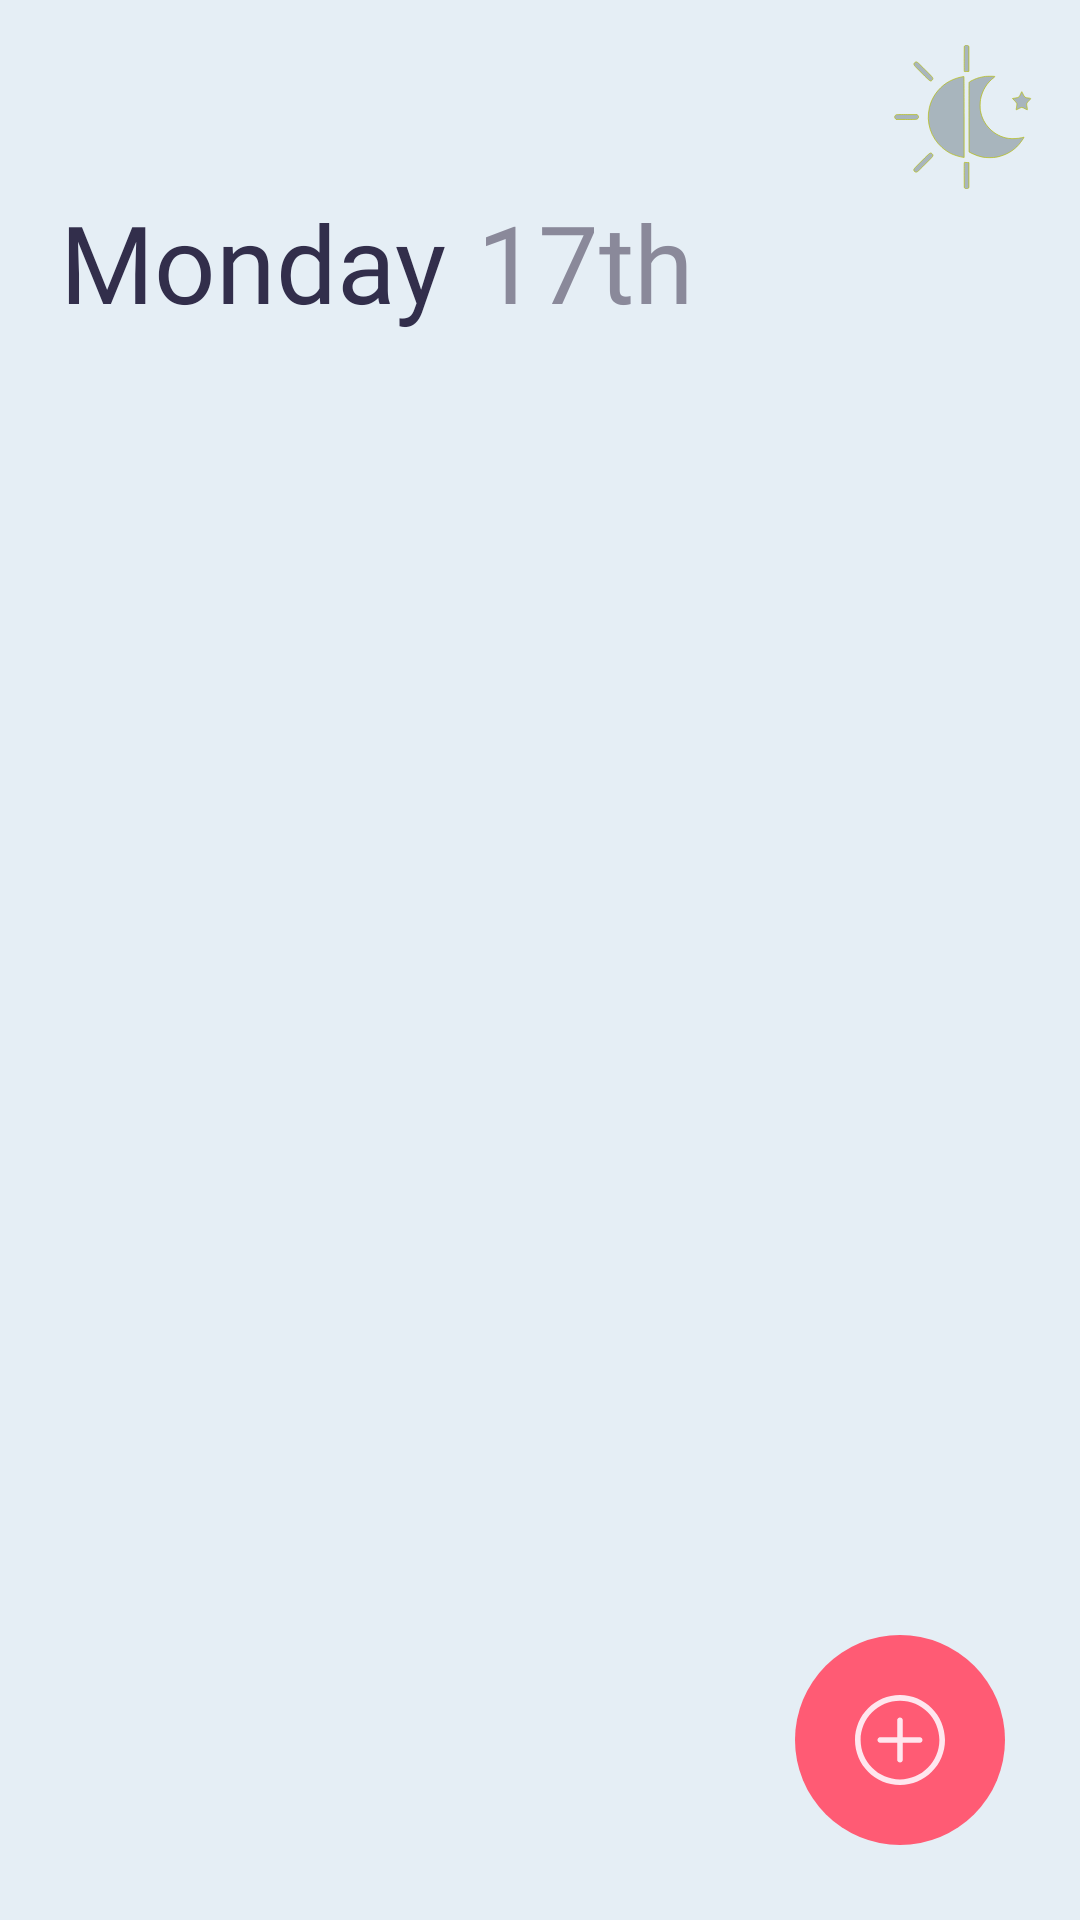

Icons on this 1080*1920 Android screen, each with the point to tap as point (x, y):
mode: point (962, 117)
plus: point (900, 1740)
